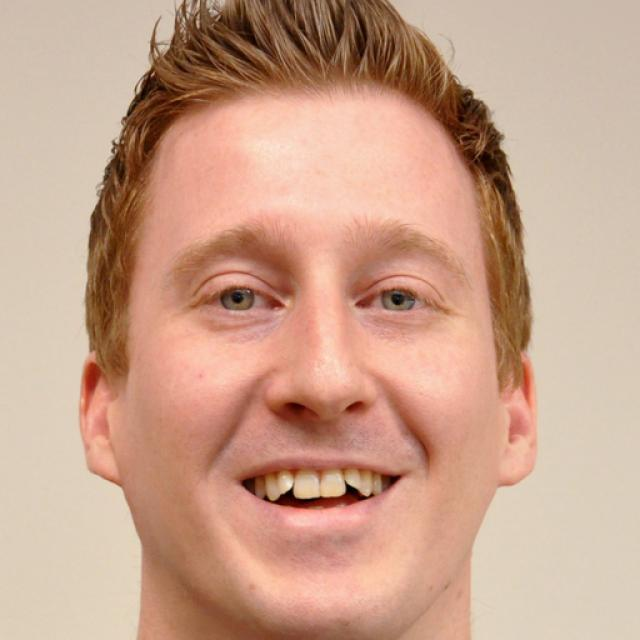happy: (118, 96, 502, 630)
